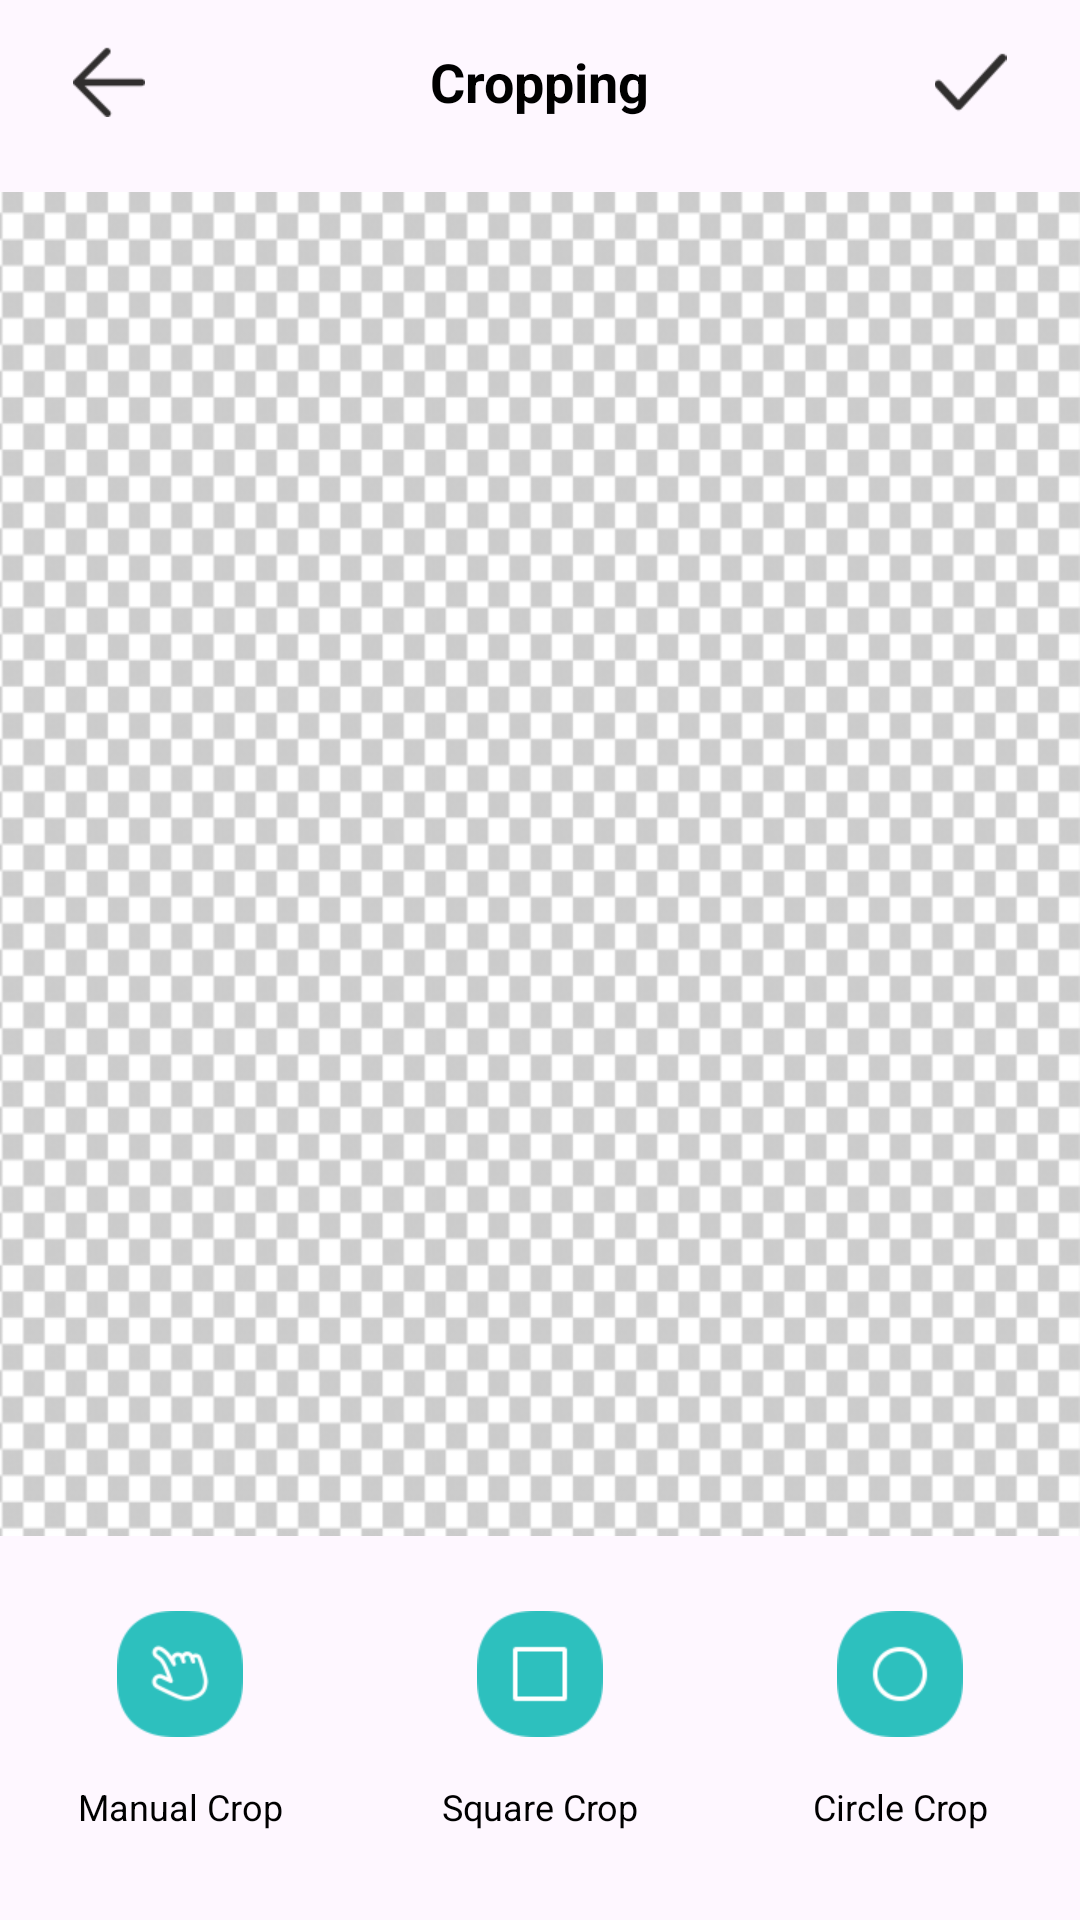

Icon click points for this 1080*1920 phone screenshot, format (x,y):
back: (109,82)
done: (971,82)
